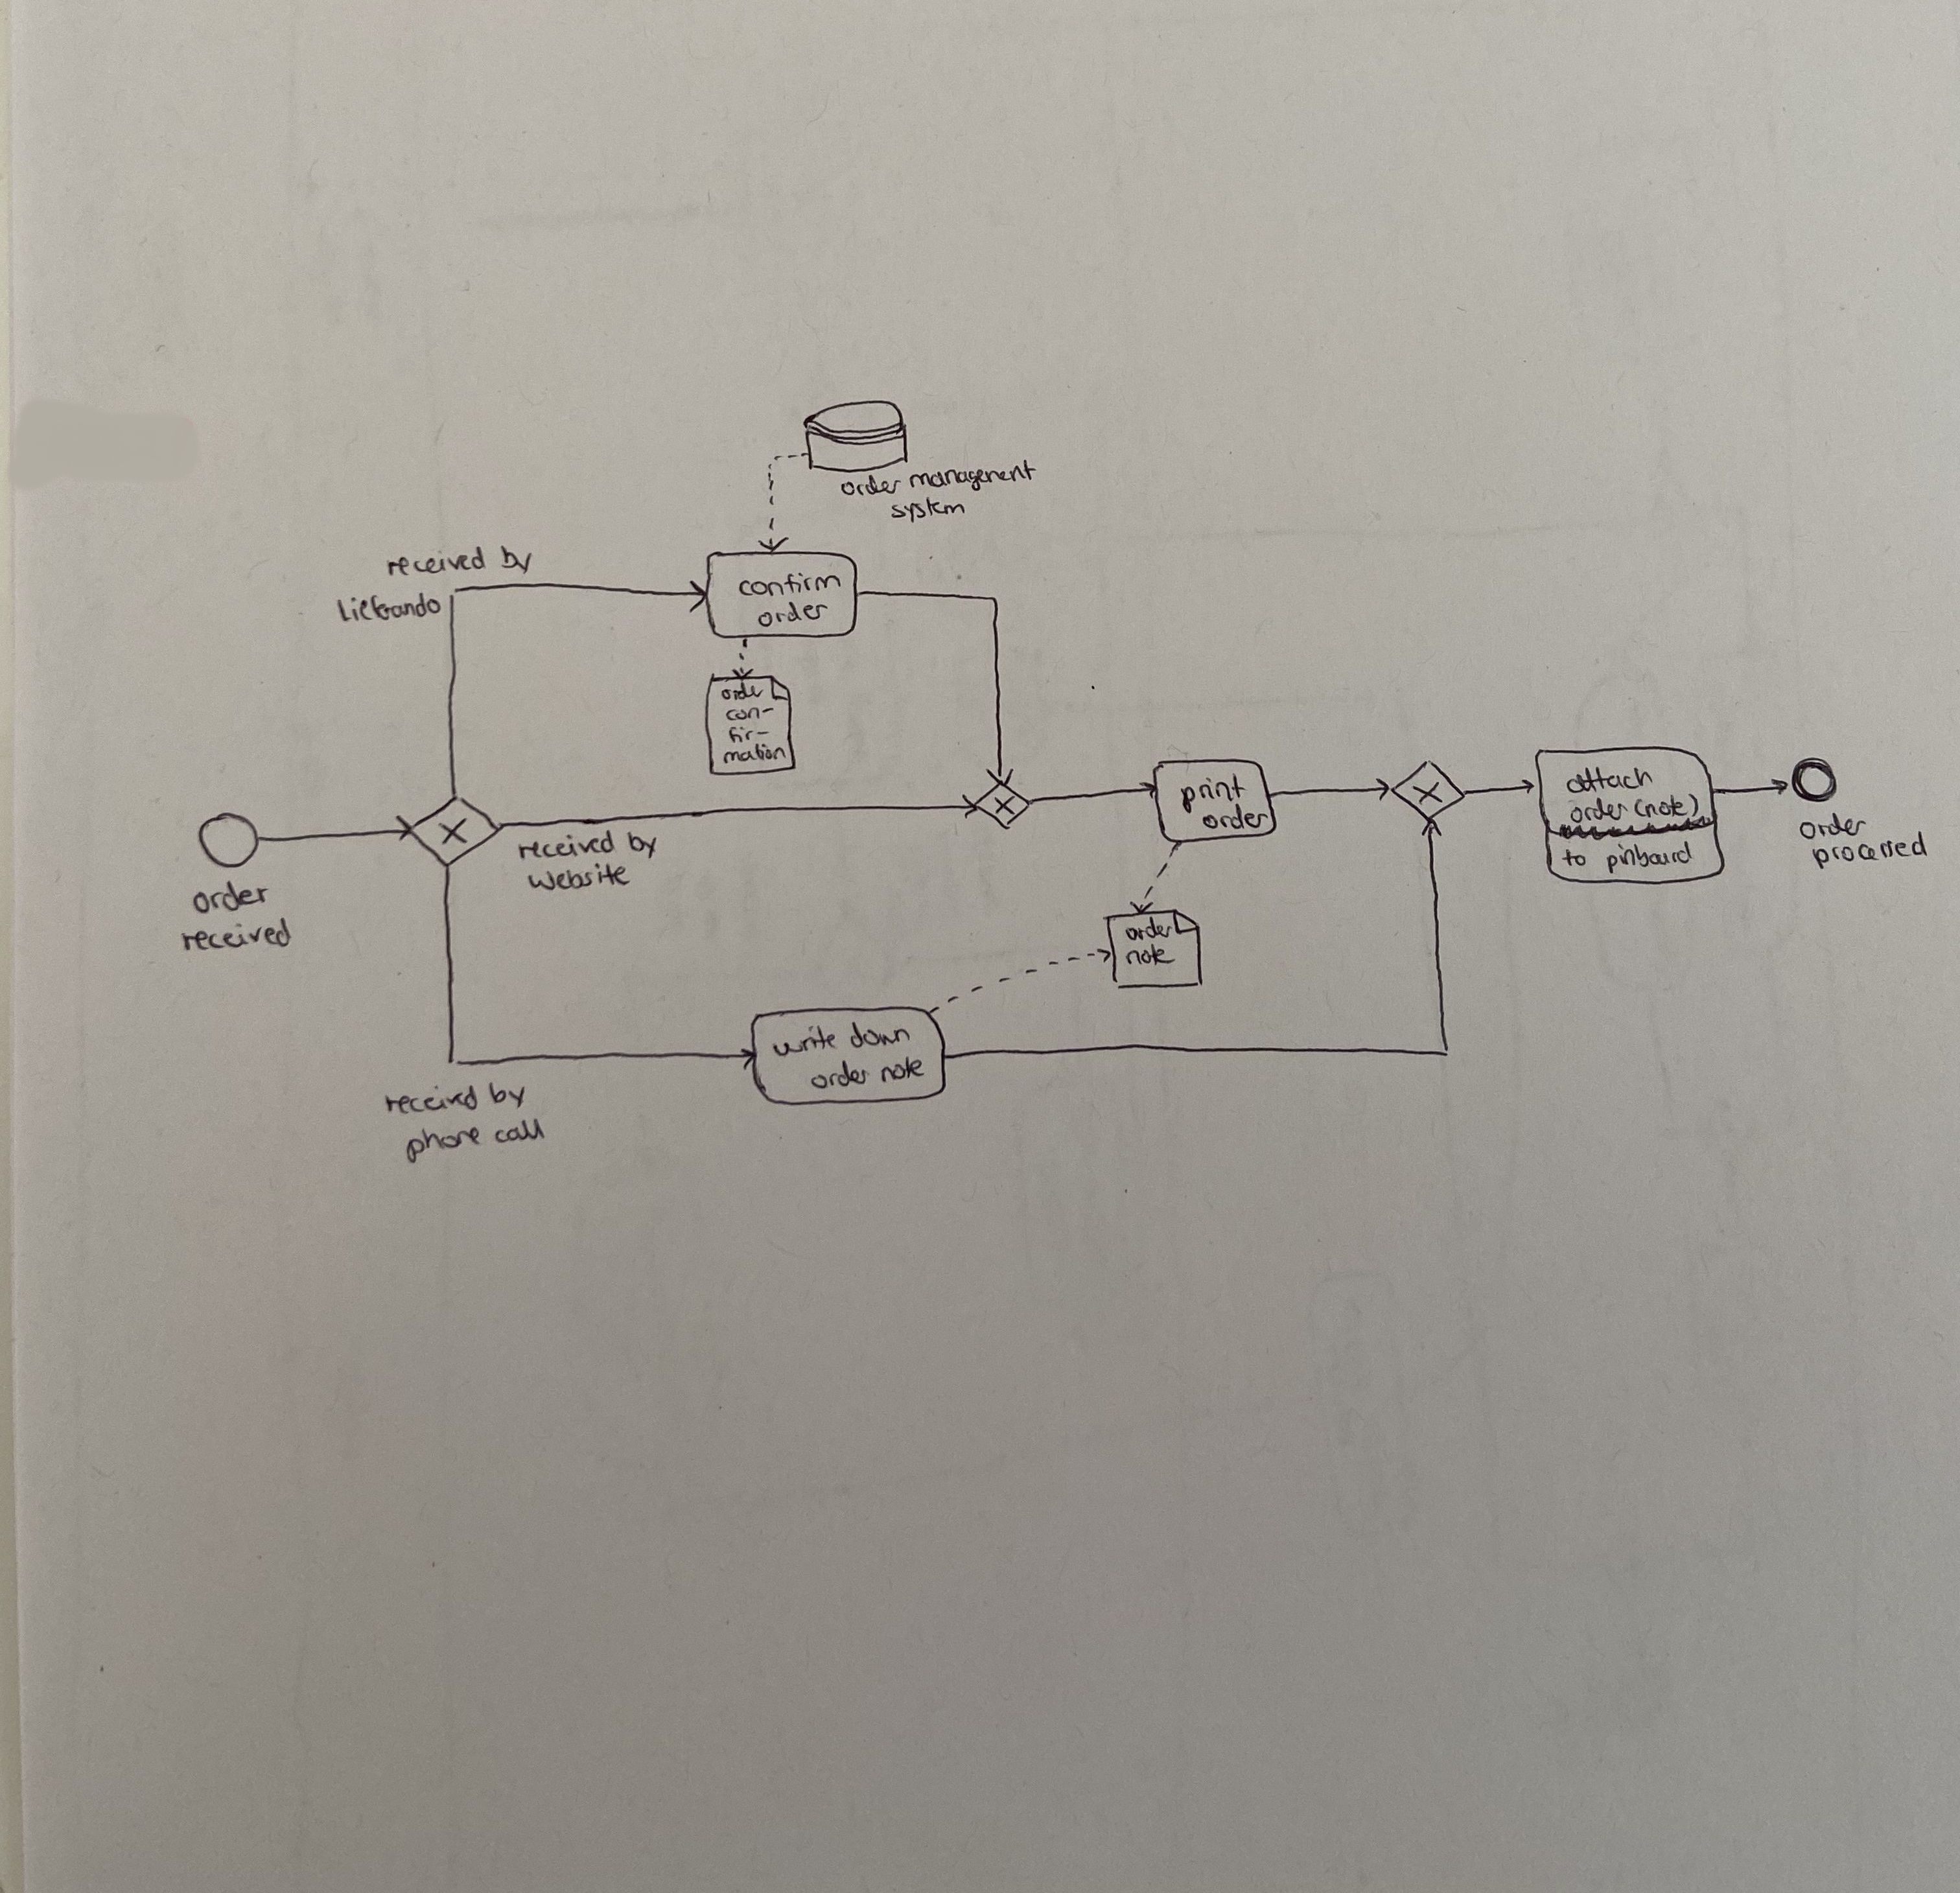(note): (1633, 791, 1703, 821)
Lieferando: (334, 593, 443, 626)
attach: (1564, 766, 1657, 796)
by: (488, 1076, 530, 1111), (499, 541, 535, 577), (626, 828, 661, 859)
call: (492, 1116, 548, 1148)
con-fir-mation: (719, 705, 789, 765)
confirm: (737, 569, 842, 598)
down: (847, 1018, 915, 1050)
managenent: (908, 458, 1039, 493)
note: (878, 1053, 927, 1085), (1122, 943, 1178, 967)
order: (191, 878, 273, 917), (808, 1057, 877, 1092), (756, 598, 830, 630), (1799, 810, 1866, 842), (1568, 796, 1633, 826), (1200, 805, 1269, 831), (838, 472, 905, 499), (1125, 915, 1176, 943), (717, 684, 768, 703)
phone: (404, 1125, 486, 1165)
pinboard: (1605, 840, 1694, 873)
print: (1178, 772, 1248, 815)
processed: (1809, 831, 1930, 871)
received: (180, 915, 296, 953), (385, 542, 488, 577), (514, 829, 619, 861), (381, 1083, 483, 1114)
system: (887, 497, 968, 523)
to: (1559, 847, 1591, 873)
website: (525, 861, 633, 894)
write: (772, 1023, 838, 1060)
